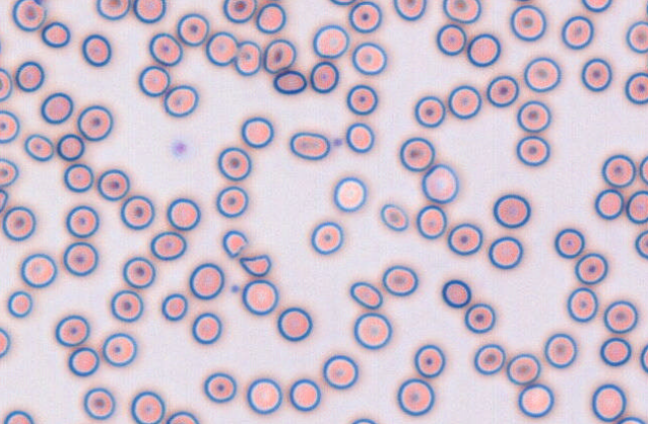PLT: (172, 142, 188, 158), (331, 134, 343, 147)
RBC: (421, 163, 458, 203), (396, 378, 434, 416), (353, 312, 392, 349), (241, 278, 278, 315), (76, 104, 113, 141), (523, 56, 561, 92), (246, 377, 282, 414), (20, 252, 57, 288), (510, 4, 546, 41), (591, 383, 626, 421), (492, 193, 530, 228), (517, 383, 554, 418), (189, 262, 224, 299), (101, 332, 137, 367), (322, 354, 358, 389), (276, 306, 312, 341), (399, 136, 434, 172), (312, 24, 349, 58), (63, 241, 98, 276), (543, 332, 577, 368), (466, 32, 500, 67), (351, 41, 386, 75), (217, 146, 251, 181), (447, 84, 481, 119), (289, 131, 330, 160), (2, 205, 35, 241), (447, 222, 483, 255), (333, 176, 366, 212), (381, 264, 418, 296), (148, 32, 182, 66), (603, 299, 637, 333), (120, 195, 154, 229), (65, 204, 99, 238), (130, 390, 165, 423), (205, 31, 238, 66), (487, 236, 522, 269), (263, 38, 296, 73), (163, 84, 198, 117), (601, 154, 636, 187), (54, 314, 90, 346), (176, 12, 209, 46), (166, 197, 200, 230), (561, 15, 594, 49), (310, 220, 343, 254), (415, 204, 447, 239), (566, 287, 598, 322), (413, 343, 445, 378), (516, 100, 551, 132), (288, 378, 321, 411), (110, 289, 143, 322), (348, 0, 381, 33), (486, 74, 519, 107), (506, 353, 540, 385), (574, 252, 608, 284), (240, 116, 274, 148), (150, 230, 186, 260), (83, 387, 115, 420), (122, 256, 155, 288), (97, 168, 129, 201), (40, 92, 73, 124), (215, 185, 248, 217), (12, 0, 46, 31), (516, 135, 550, 166), (581, 57, 612, 91), (473, 343, 505, 375), (203, 372, 236, 403), (233, 40, 262, 75), (191, 312, 222, 344), (138, 65, 170, 96), (414, 95, 445, 127), (346, 83, 377, 115), (81, 33, 111, 66), (309, 60, 339, 93), (464, 302, 495, 333), (255, 2, 286, 33), (554, 227, 585, 258), (67, 346, 99, 376), (436, 23, 466, 55), (349, 280, 382, 309), (594, 188, 624, 219), (599, 337, 631, 366), (15, 60, 44, 92), (441, 278, 471, 308), (345, 122, 374, 153), (442, 0, 481, 23), (63, 163, 93, 192), (272, 69, 306, 94), (24, 133, 54, 161), (380, 202, 408, 231), (56, 133, 84, 161), (161, 292, 188, 321), (222, 0, 256, 23), (625, 189, 647, 224), (624, 71, 647, 104), (133, 0, 166, 23), (41, 21, 70, 47), (625, 20, 647, 53), (7, 290, 33, 317), (96, 0, 130, 20), (393, 0, 426, 20), (0, 109, 19, 143), (0, 157, 18, 187), (165, 410, 199, 423), (0, 67, 12, 101), (3, 410, 34, 423), (634, 229, 647, 259), (581, 0, 612, 12), (0, 326, 10, 358), (639, 342, 648, 373), (639, 154, 648, 184), (616, 416, 646, 423), (0, 188, 8, 213), (350, 417, 378, 423), (329, 0, 356, 5), (510, 0, 535, 4), (645, 0, 648, 20)
Schistocyte: (223, 229, 248, 258), (239, 255, 271, 275)
